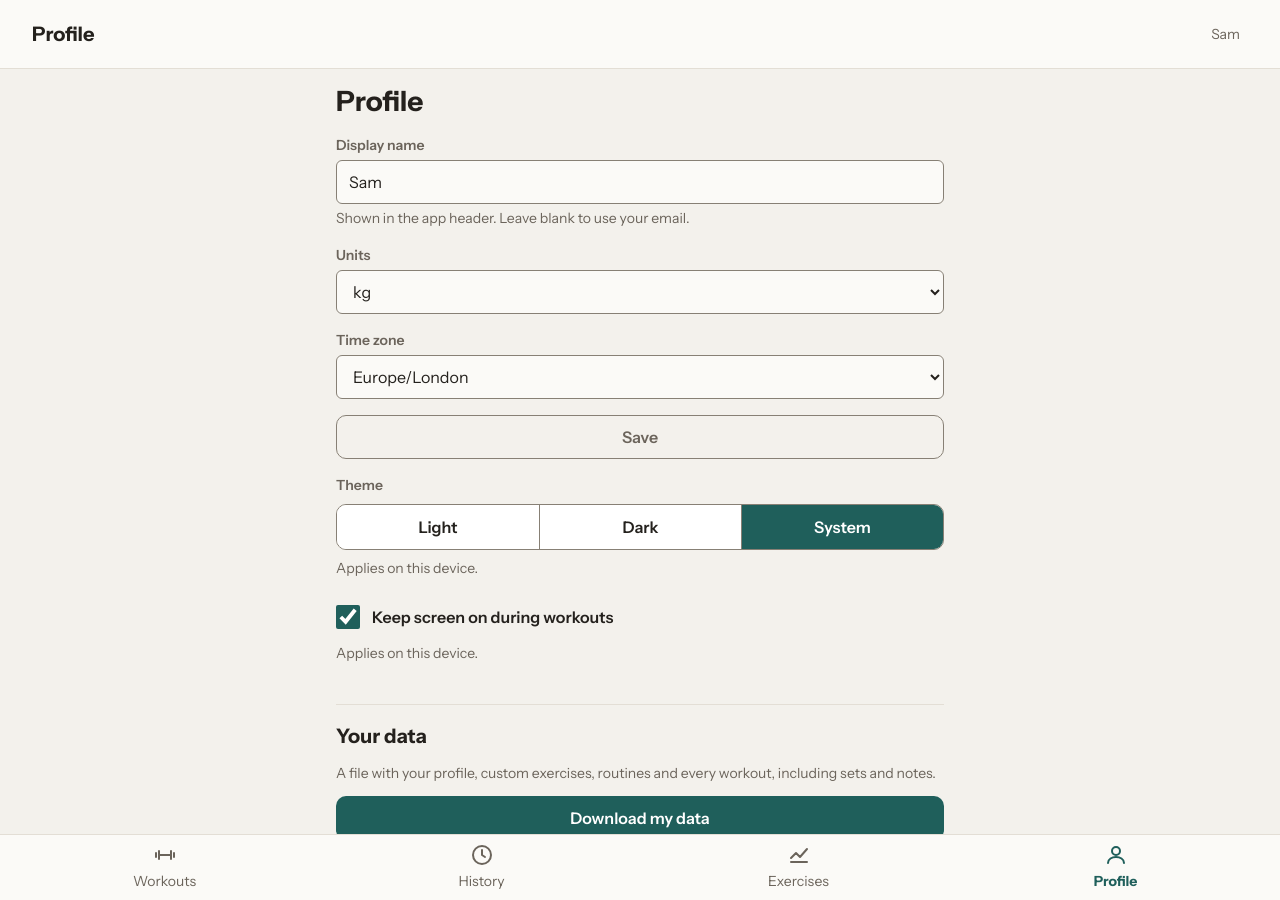
AC6 — Profile saves (Spec 04.1 §2) › clearing displayName sends null
Clear the field labelled "Display name" at {"x": 640, "y": 182}, box [336,160,944,204]
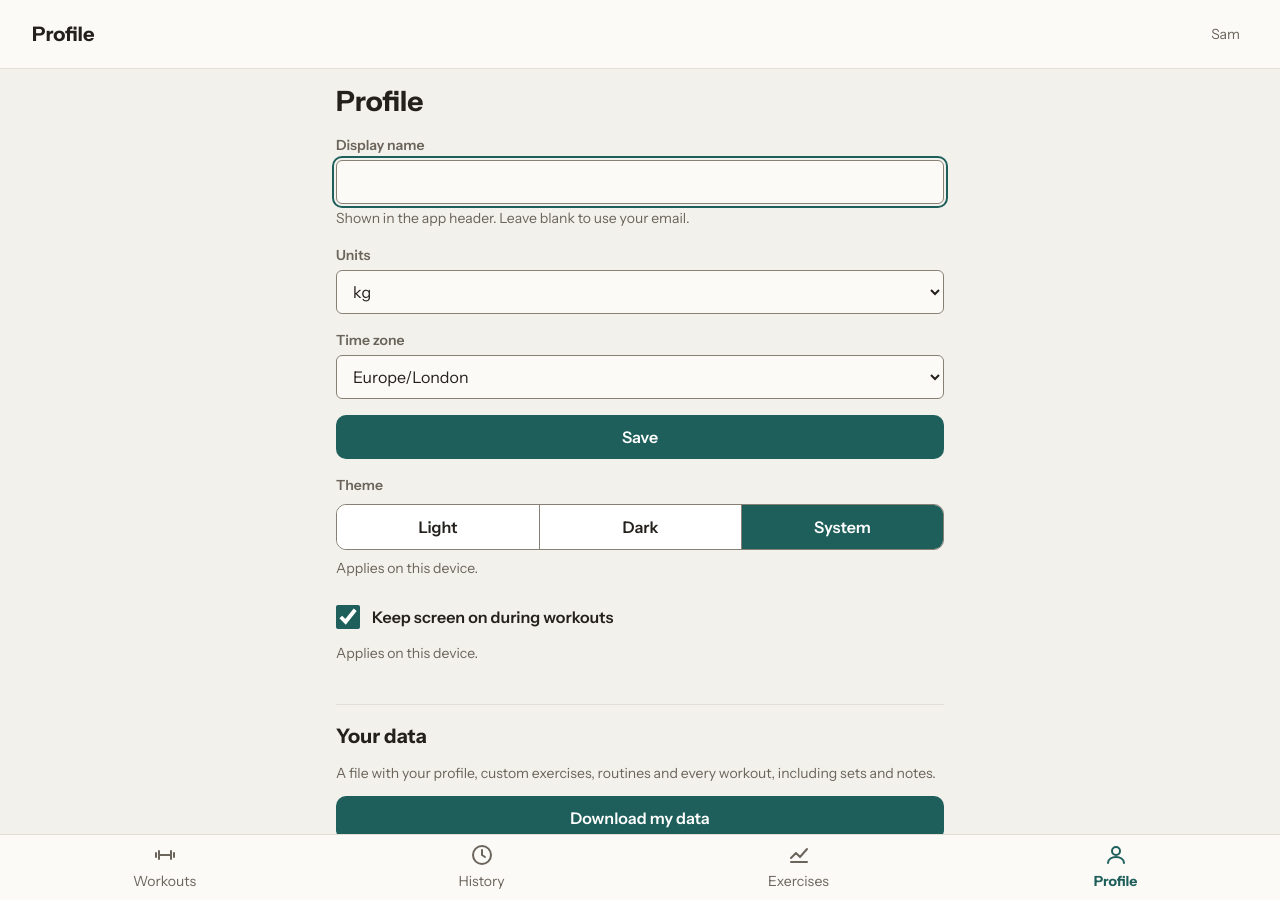
Click the button "Save".
click(640, 437)  # box [336,415,944,459]
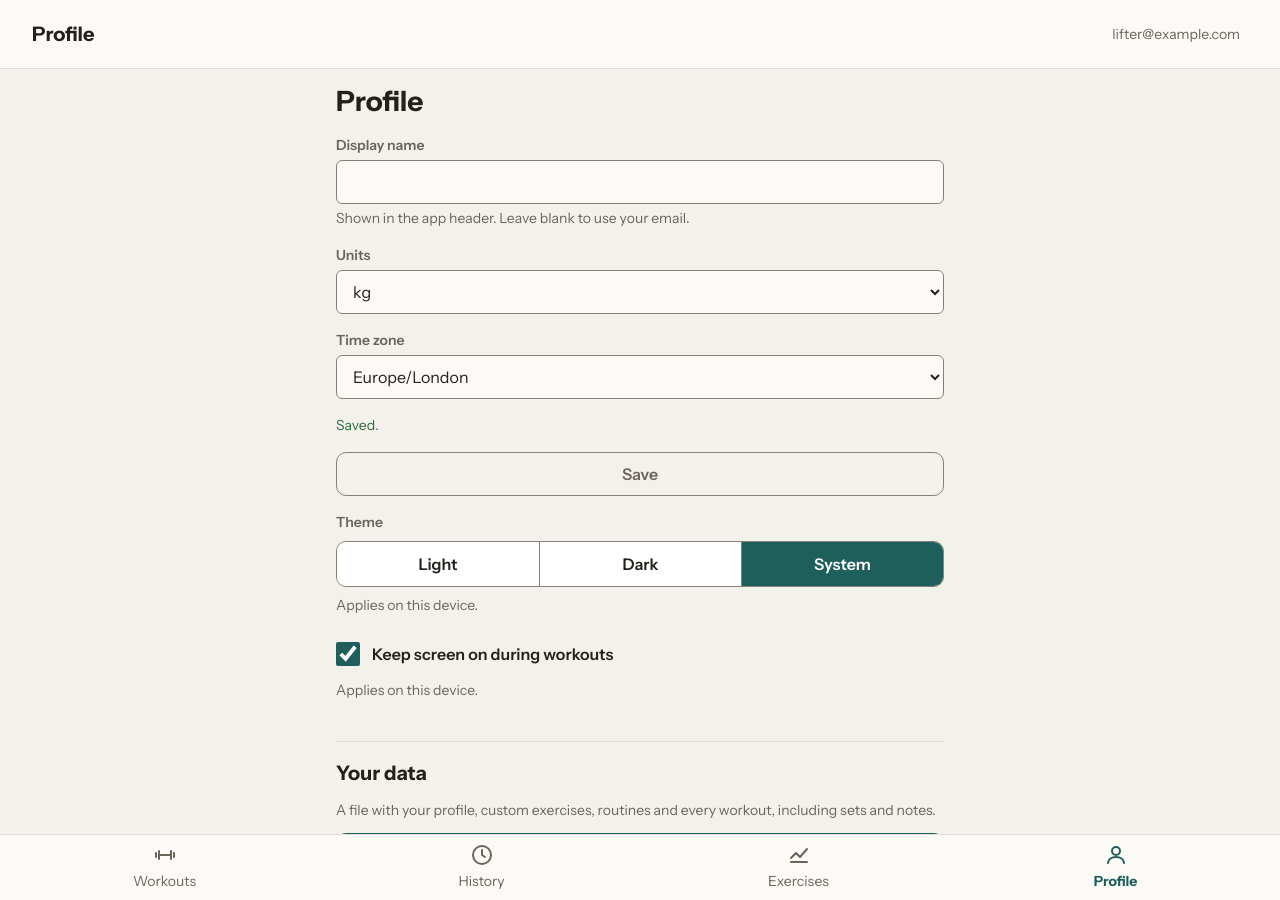
Now the message "Saved." is shown, box [336,416,379,434]
Now the link with test id "app-shell-user" reads "lifter@example.com", box [1112,24,1240,42]
